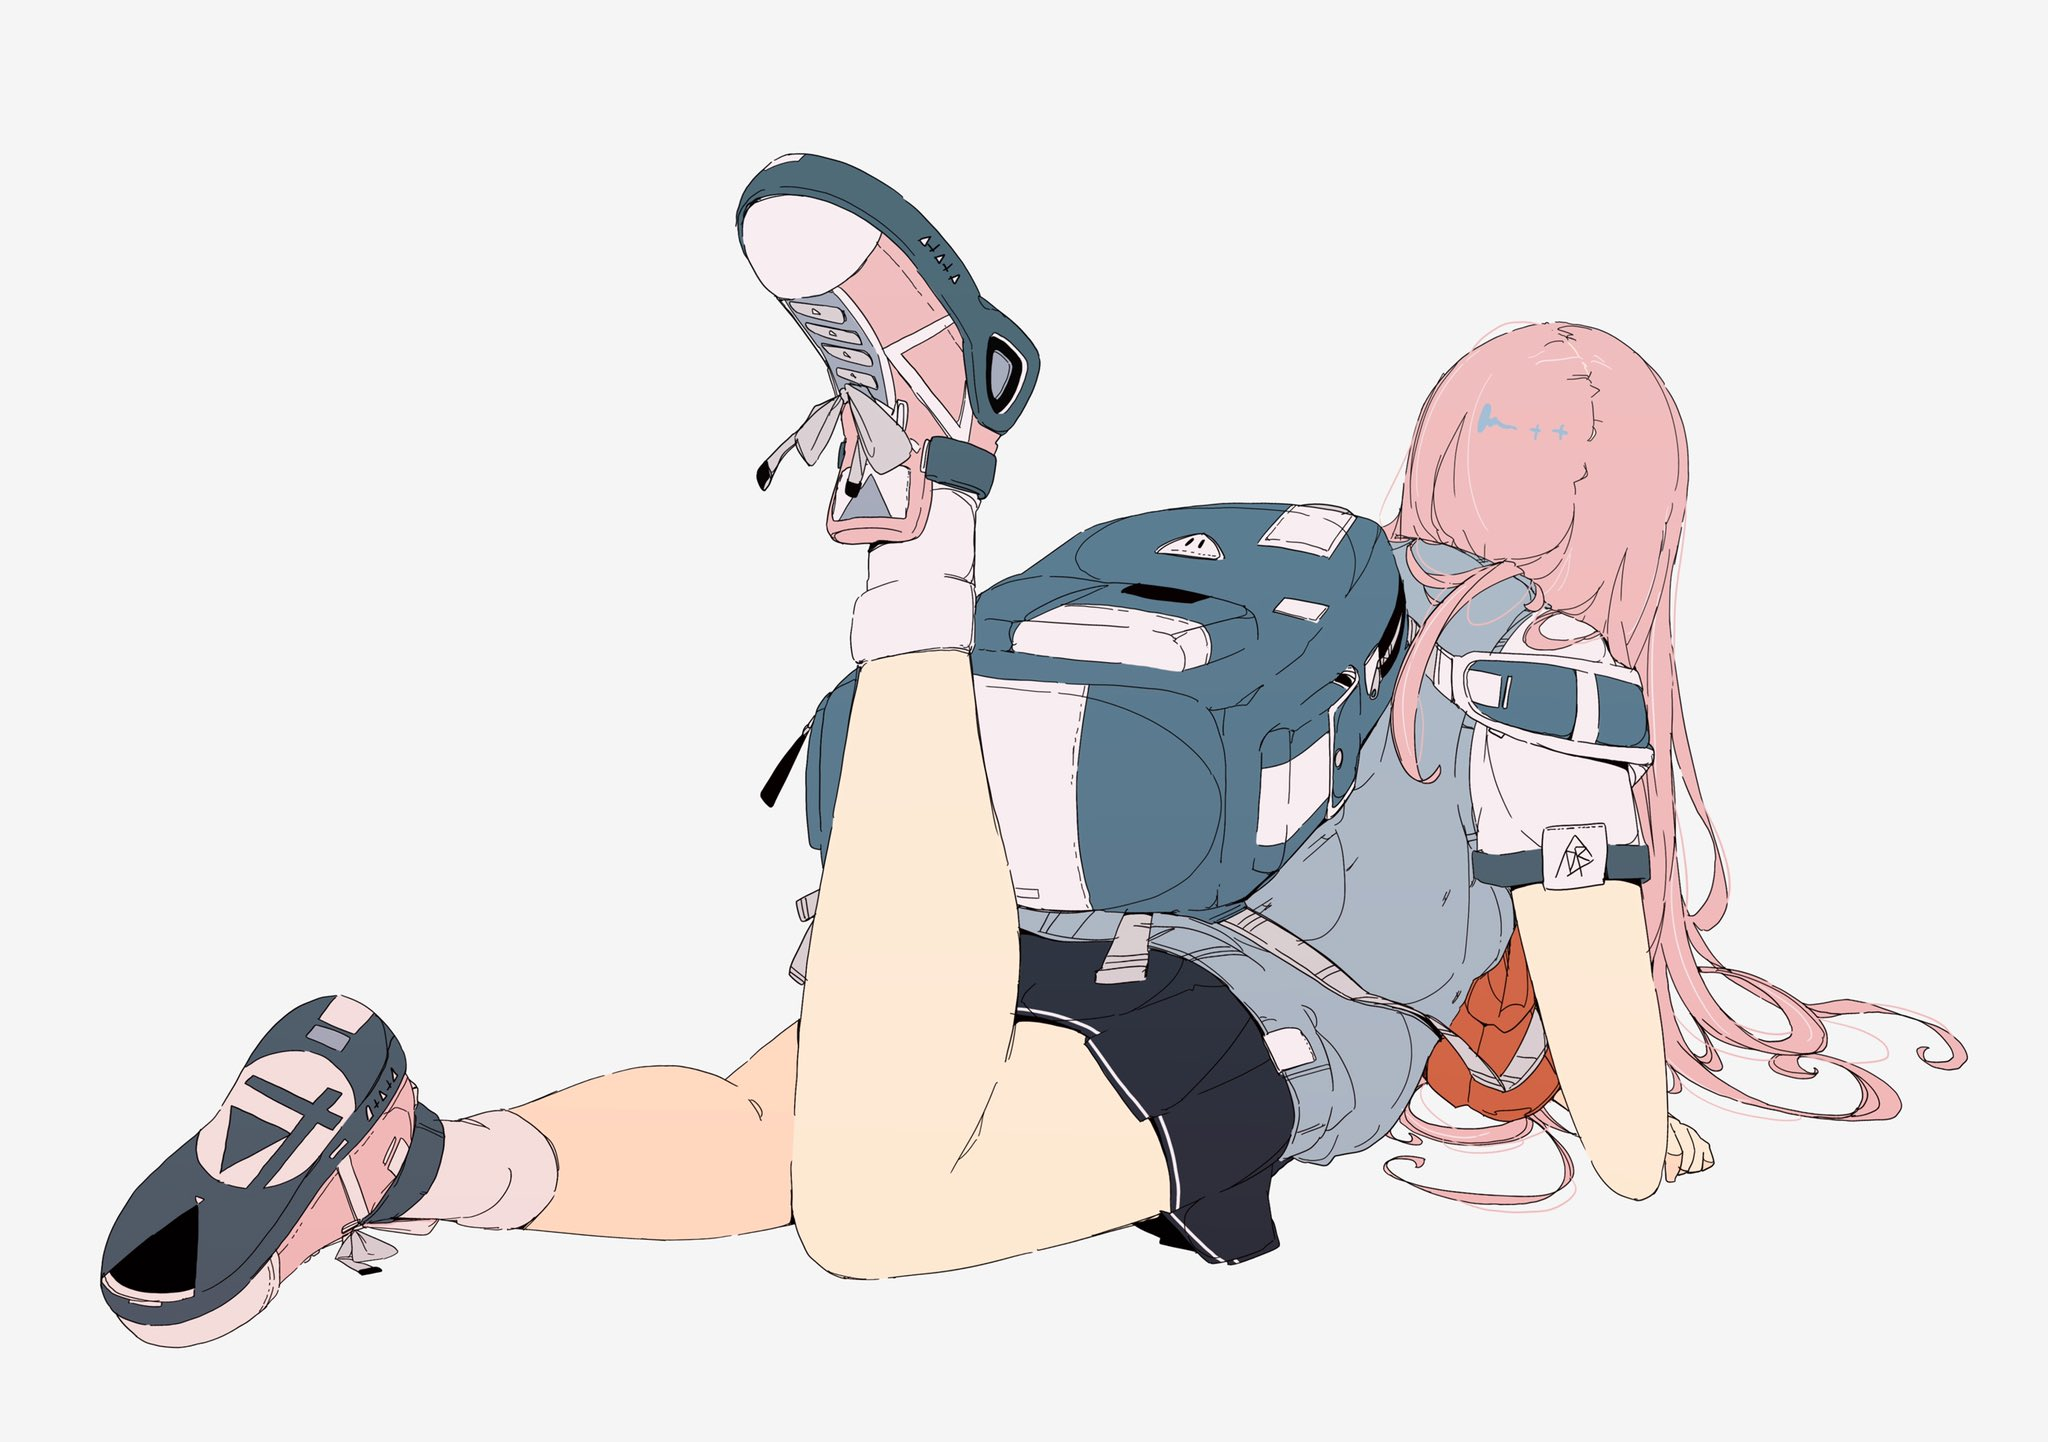p: (105, 145, 1898, 1345)
